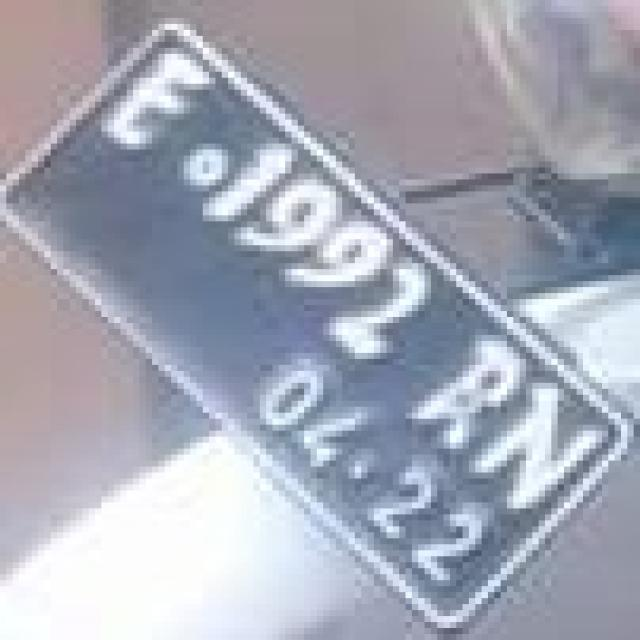plate: (0, 0, 621, 628)
